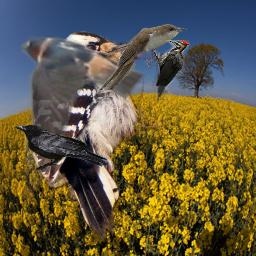Crow: (14, 124, 109, 173)
Cuckoo: (99, 24, 187, 90)
Swallow: (21, 32, 147, 152)
Woodpecker: (25, 28, 166, 240), (152, 40, 190, 102)
